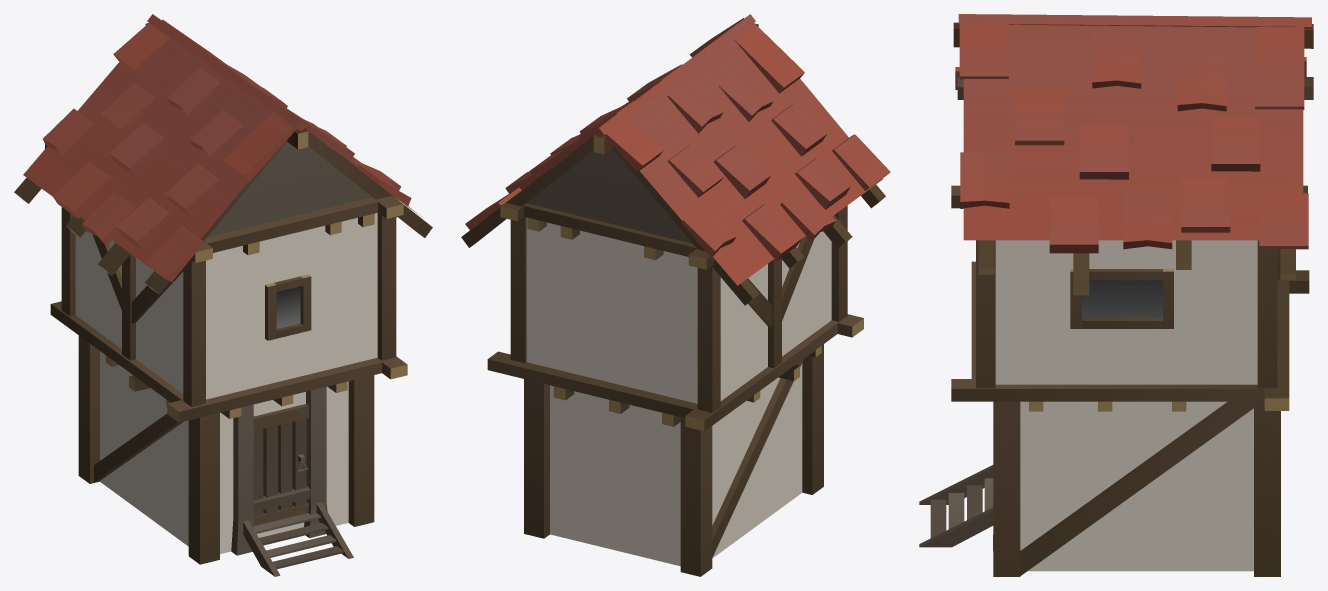
The model's file is House_15.fbx.
The picture shows the model from 3 angles, left to right: view 1: azimuth 30°, elevation 25°; view 2: azimuth 150°, elevation 25°; view 3: azimuth 270°, elevation 25°; orthographic projection. The views are drawn at different scales.
Parts seen in each view (by area): view 1: polySurface9624; view 2: polySurface9624; view 3: polySurface9624.
Part boxes in pixels (x1=…): polySurface9624: x1=14, y1=14, x2=432, y2=576; polySurface9624: x1=461, y1=14, x2=890, y2=576; polySurface9624: x1=919, y1=14, x2=1313, y2=576.
Size of the model in its own units: 585 by 806 by 562.
